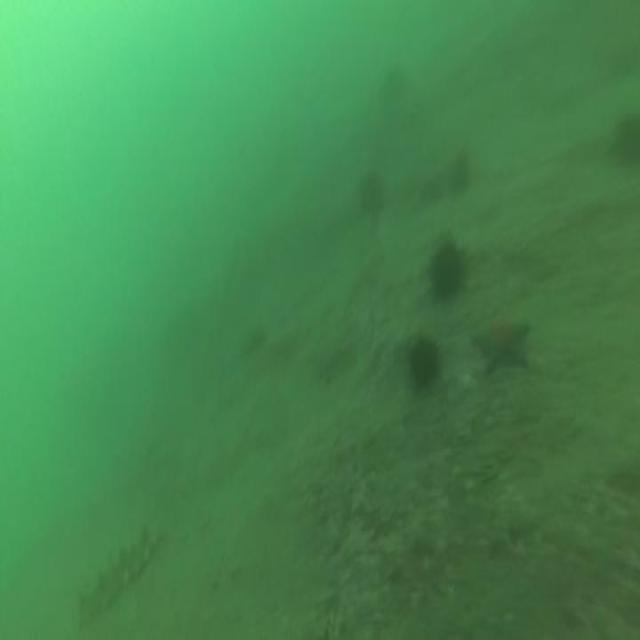echinus: (426, 236, 466, 306), (406, 329, 446, 398), (612, 104, 640, 171), (357, 166, 388, 224), (380, 60, 410, 106)
holothurian: (74, 512, 164, 629)
starfish: (471, 308, 533, 379)
